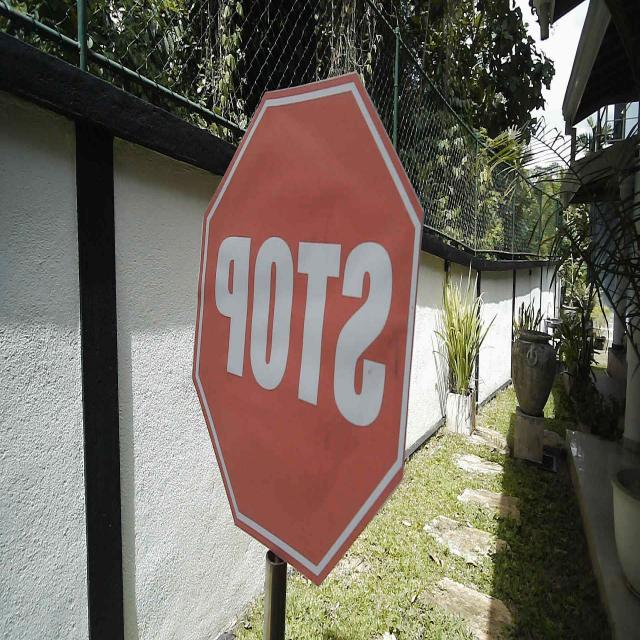stop: (190, 66, 425, 590)
